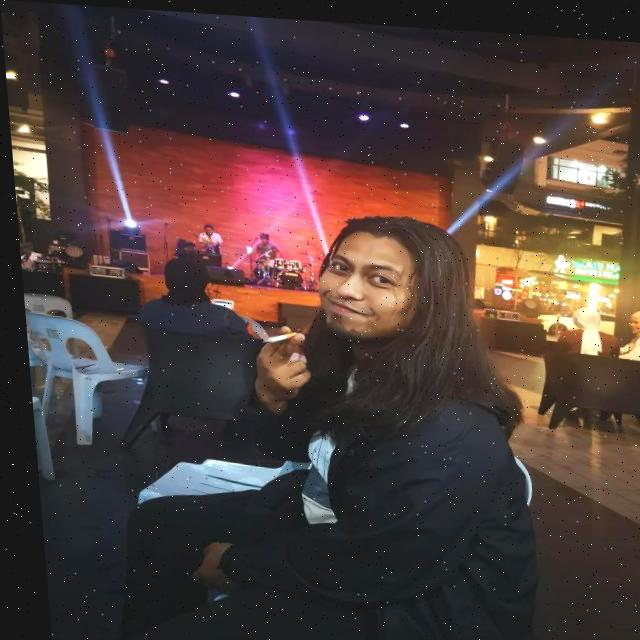cigarette: (256, 327, 293, 342)
